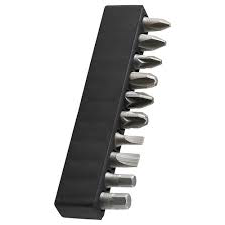Screwdriver: (66, 1, 172, 221)
